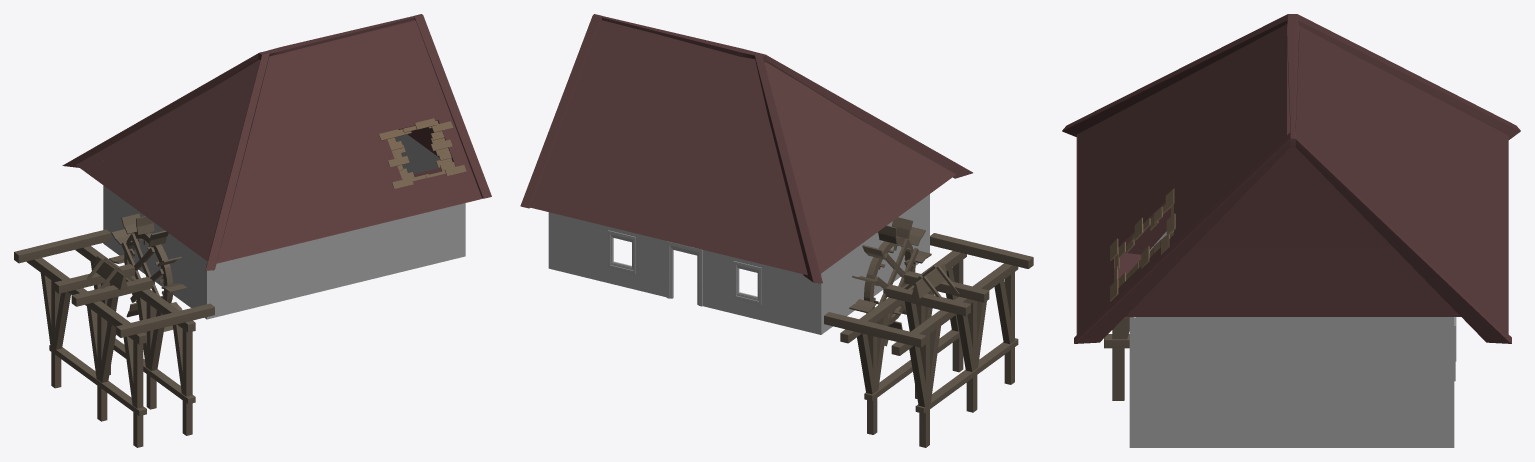
Rendered from HouseV9.fbx.
3 views of the same model, side by side, from view 1: azimuth 30°, elevation 25°; view 2: azimuth 150°, elevation 25°; view 3: azimuth 270°, elevation 25° (orthographic). The views are drawn at different scales.
Parts seen in each view (by area): view 1: pPlane4, ExteriorWall, RoofTrim, BlocksTop, MillWheel, pCube19, BlocksBottom, Pillar3, Pillar1, Pillar4, Pillar5, Pillar (+3 smaller); view 2: pPlane4, ExteriorWall, RoofTrim, BlocksTop, MillWheel, BlocksBottom, Pillar3, Pillar1, Pillar2, Pillar4, Blocks, Blocks1 (+2 smaller); view 3: pPlane4, ExteriorWall, RoofTrim, pCube19, Pillar5.
Part boxes in pixels (x1,y1,x2,y2): pPlane4: (76, 20, 482, 263); ExteriorWall: (103, 185, 465, 319); RoofTrim: (62, 14, 491, 270); BlocksTop: (26, 246, 195, 344); MillWheel: (109, 213, 186, 331); pCube19: (379, 118, 466, 189); BlocksBottom: (49, 338, 195, 415); Pillar3: (40, 267, 70, 388); Pillar1: (87, 306, 115, 421); Pillar4: (123, 336, 143, 447); Pillar5: (172, 324, 192, 435); Pillar: (136, 295, 164, 409); pPlane4: (531, 20, 955, 275); ExteriorWall: (548, 194, 929, 334); RoofTrim: (520, 14, 972, 283); BlocksTop: (840, 251, 1018, 355); MillWheel: (849, 217, 931, 346); BlocksBottom: (864, 329, 1018, 413); Pillar3: (909, 321, 941, 447); Pillar1: (956, 300, 986, 412); Pillar2: (857, 314, 888, 434); Pillar4: (994, 272, 1014, 384); Blocks: (930, 233, 1033, 268); Blocks1: (824, 312, 926, 347); pPlane4: (1076, 24, 1508, 334); ExteriorWall: (1129, 317, 1456, 447); RoofTrim: (1062, 14, 1520, 343); pCube19: (1110, 188, 1175, 301); Pillar5: (1112, 254, 1149, 400).
Bounding box in the file's own units: 18.15 × 14.79 × 12.73.
